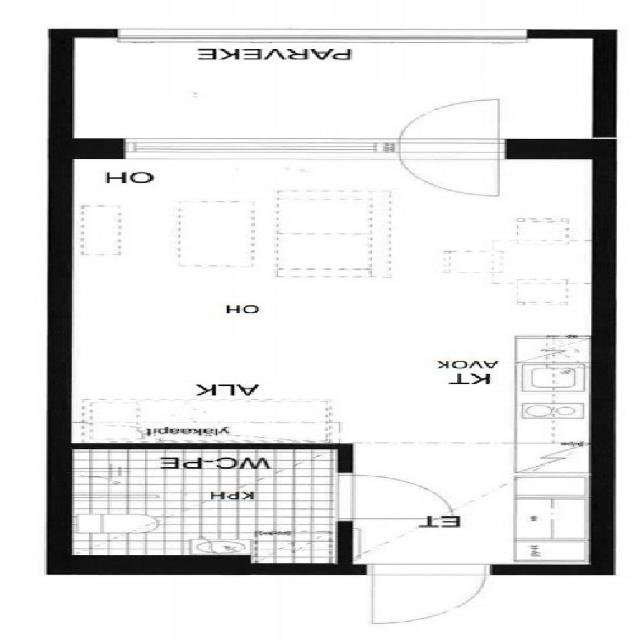door: (373, 564, 485, 624), (399, 138, 497, 201), (399, 96, 497, 158), (335, 475, 451, 518)
